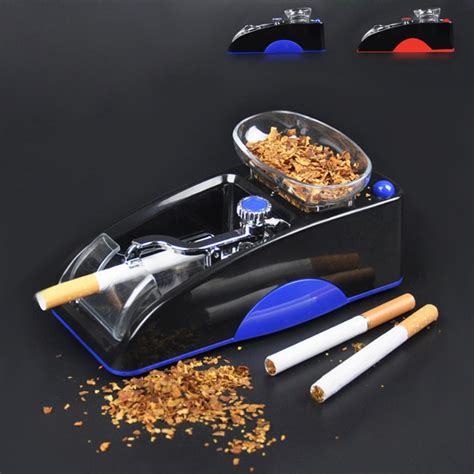cigarette: (309, 304, 438, 403), (265, 294, 416, 376), (35, 246, 208, 313)
